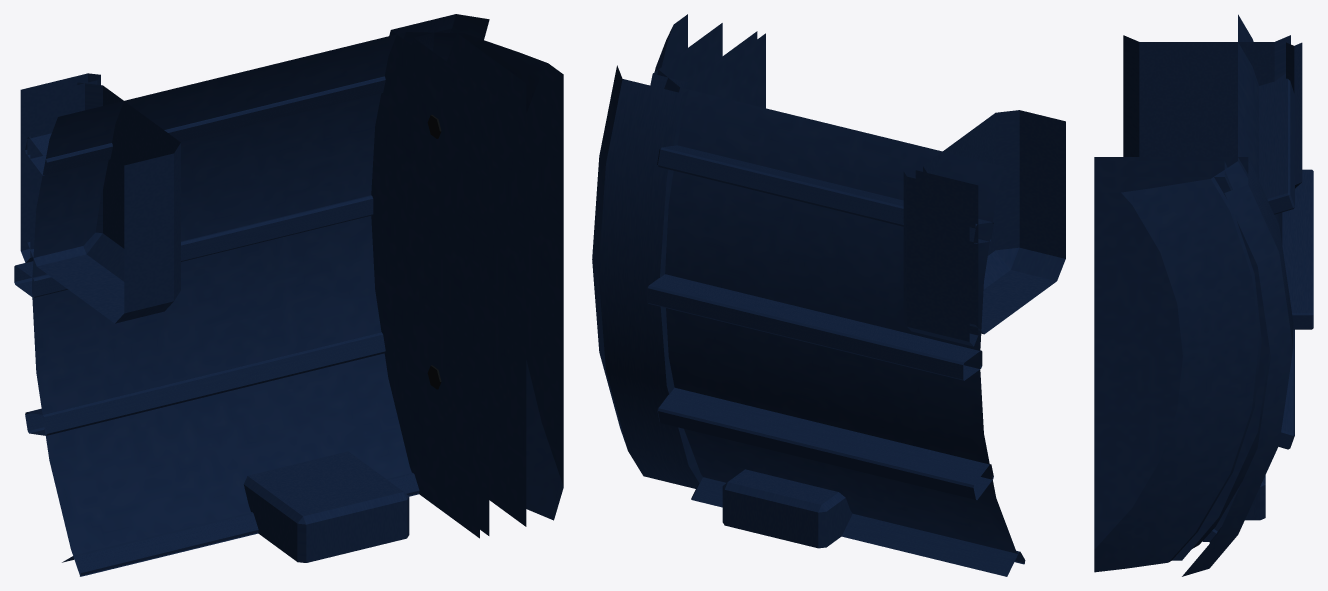
Rendered from cell_30.obj.
3 views of the same model, side by side, from view 1: azimuth 30°, elevation 25°; view 2: azimuth 150°, elevation 25°; view 3: azimuth 270°, elevation 25° (orthographic). The views are drawn at different scales.
Visible parts, largest first — view 1: cell_30; view 2: cell_30; view 3: cell_30.
Boxes of the visible parts, x1=… form: cell_30: x1=14, y1=14, x2=563, y2=576; cell_30: x1=592, y1=14, x2=1065, y2=576; cell_30: x1=1094, y1=14, x2=1313, y2=576.
Size of the model in its own units: 1 by 1 by 0.5181.
